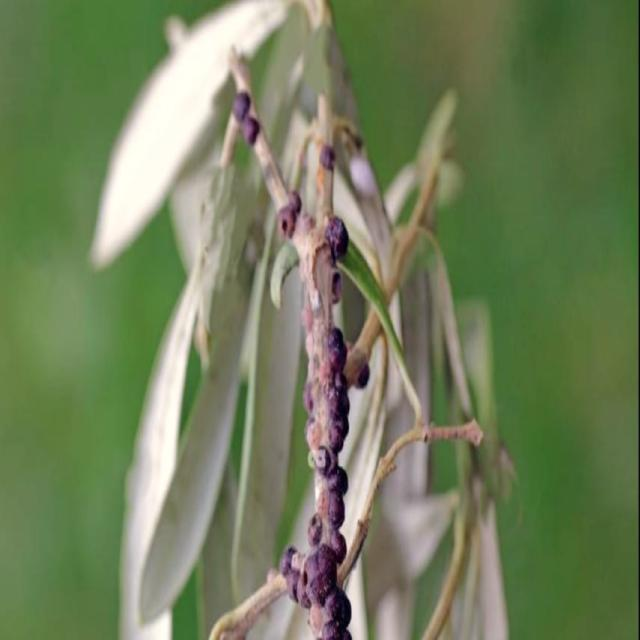Black Scale: (278, 319, 351, 639), (233, 90, 260, 146), (325, 215, 348, 266), (278, 193, 304, 238), (332, 270, 341, 303)
